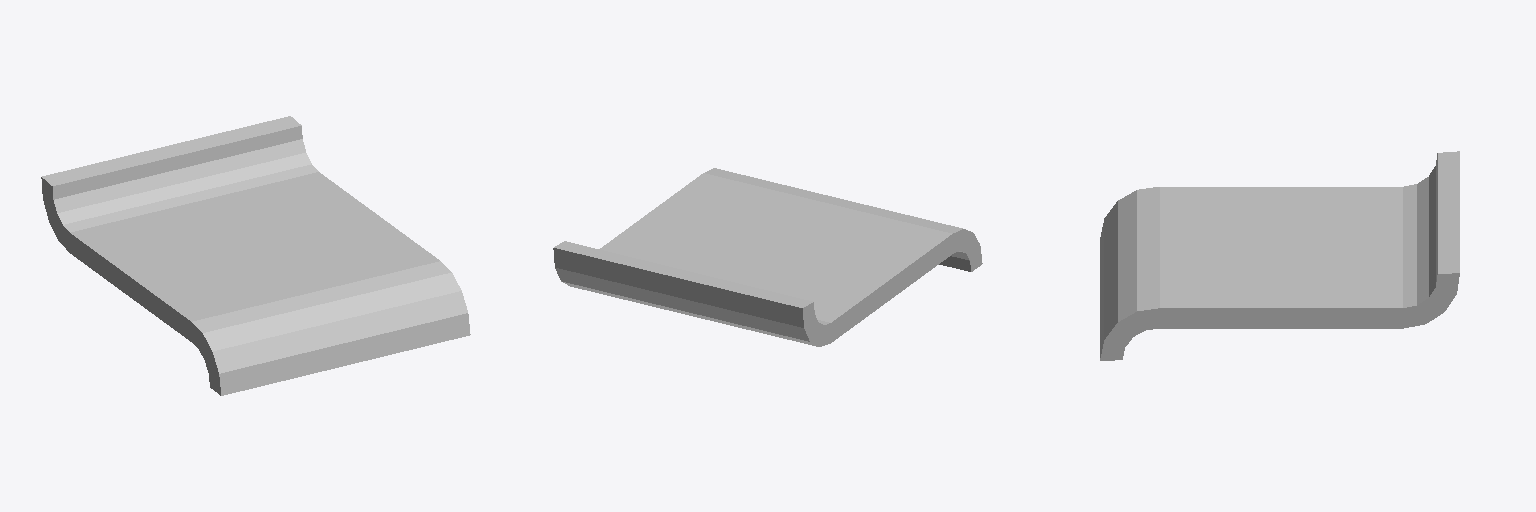
The model's file is chair_Seat_3.obj.
The picture shows the model from 3 angles: view 1: azimuth 30°, elevation 25°; view 2: azimuth 150°, elevation 25°; view 3: azimuth 270°, elevation 25°; orthographic projection.
Bounding box in the file's own units: 7.42 × 2.49 × 9.28.